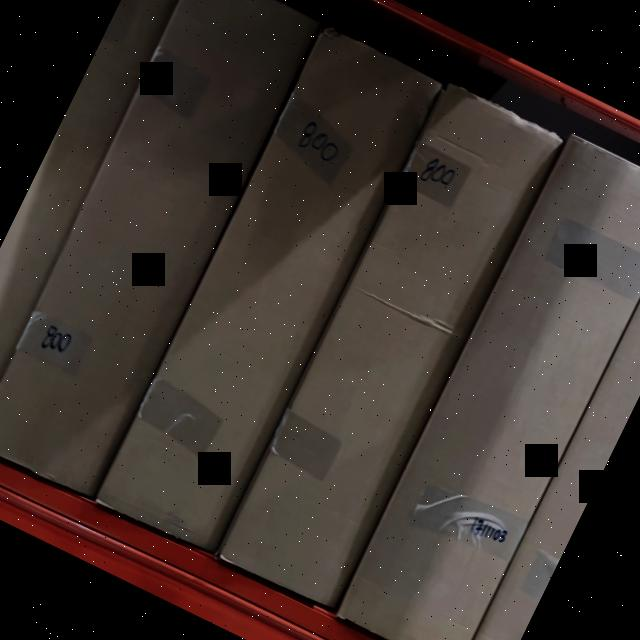box: (95, 29, 441, 552), (220, 86, 561, 610), (0, 0, 319, 496), (337, 133, 640, 640)
